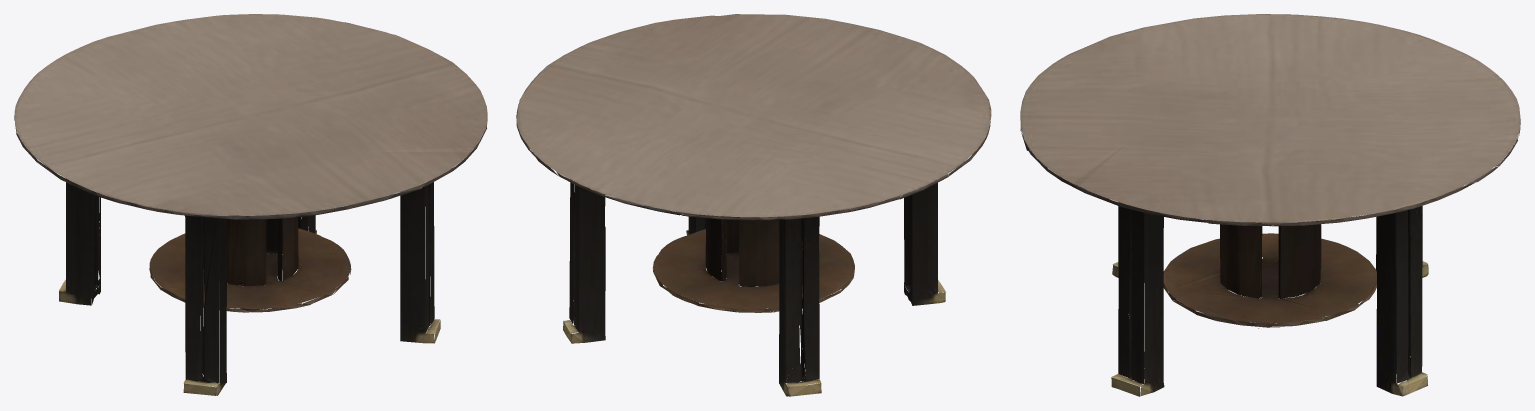
Rendered from m-table-diner.glb.
3 views of the same model, side by side, from view 1: azimuth 30°, elevation 25°; view 2: azimuth 150°, elevation 25°; view 3: azimuth 270°, elevation 25° (orthographic). The views are drawn at different scales.
Visible parts, largest first — view 1: geometry_0; view 2: geometry_0; view 3: geometry_0.
Part boxes in pixels (box(x1,y1,x2,y2)): geometry_0: box(14, 14, 487, 395); geometry_0: box(516, 14, 991, 396); geometry_0: box(1020, 14, 1520, 396).
Size of the model in its own units: 0.9993 by 0.4742 by 0.9995.
1 material, 1 textured.
